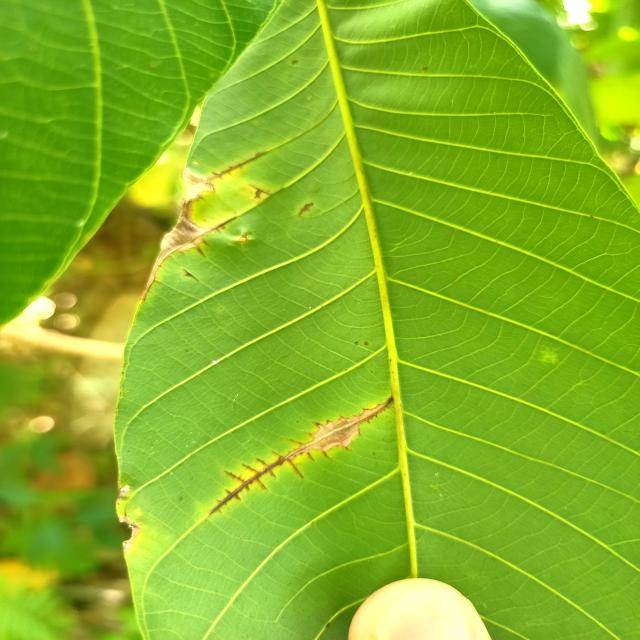Corynespora: (210, 394, 393, 518), (207, 151, 267, 181), (209, 215, 238, 233), (250, 184, 271, 199)
Leaf-Blight: (142, 168, 216, 300)
